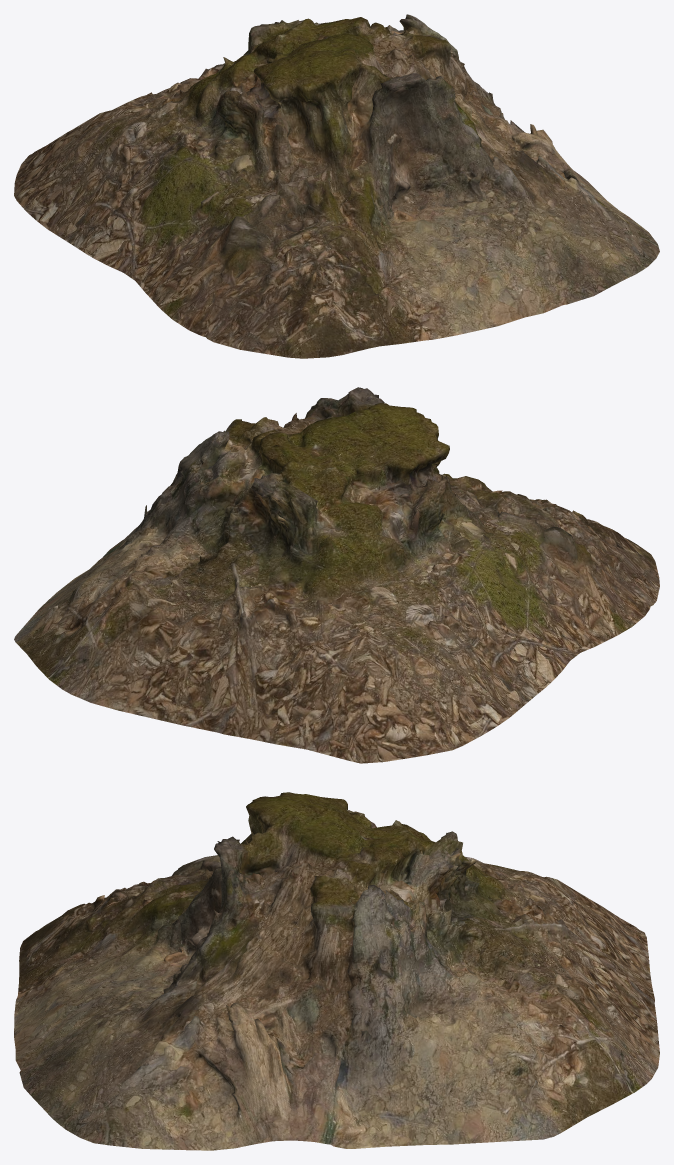
The model's file is tree_stump_01.glb.
The picture shows the model from 3 angles, top to bottom: view 1: azimuth 30°, elevation 25°; view 2: azimuth 150°, elevation 25°; view 3: azimuth 270°, elevation 25°; orthographic projection. The views are drawn at different scales.
Parts seen in each view (by area): view 1: tree_stump_01; view 2: tree_stump_01; view 3: tree_stump_01.
Part boxes in pixels (x1,y1,x2,y2): tree_stump_01: [14, 14, 659, 358]; tree_stump_01: [14, 387, 659, 763]; tree_stump_01: [14, 792, 659, 1150].
Size of the model in its own units: 1.43 by 0.5725 by 1.59.
Materials: 1 (1 with a texture image).
